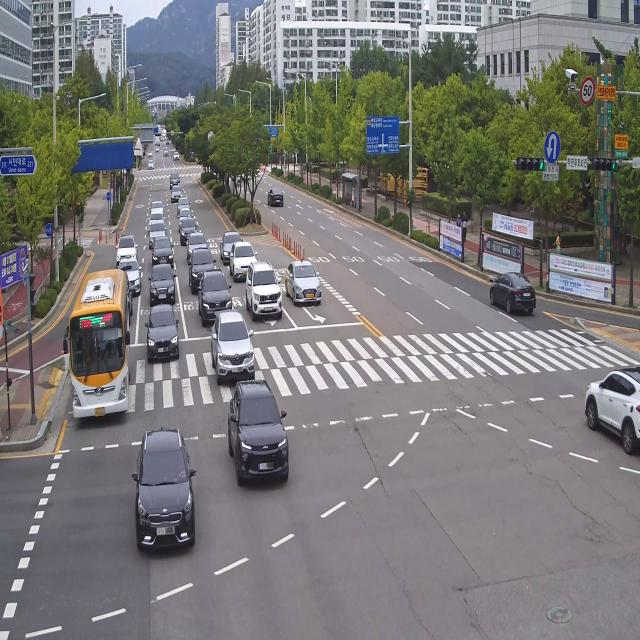Bus: (60, 260, 140, 440)
Car: (221, 373, 302, 510), (130, 420, 194, 563), (569, 357, 640, 459), (477, 257, 552, 330), (206, 304, 262, 387), (247, 257, 288, 337), (190, 263, 242, 322), (144, 296, 185, 364), (287, 252, 325, 317), (148, 255, 179, 313)
